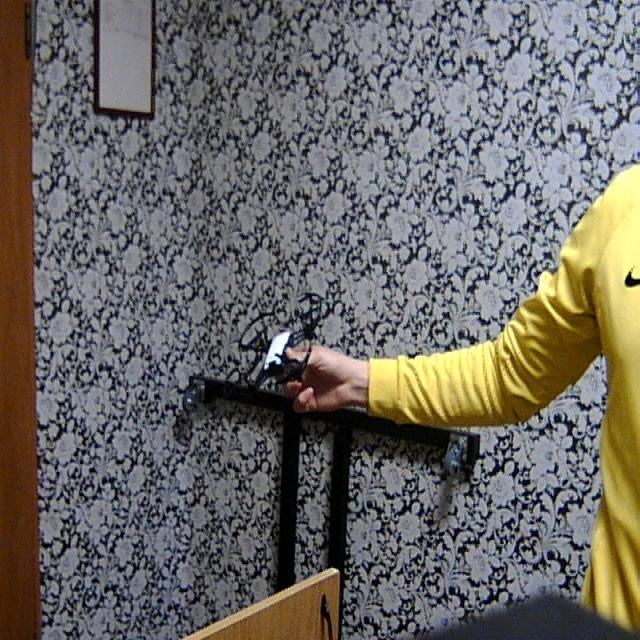drone: (228, 293, 332, 401)
